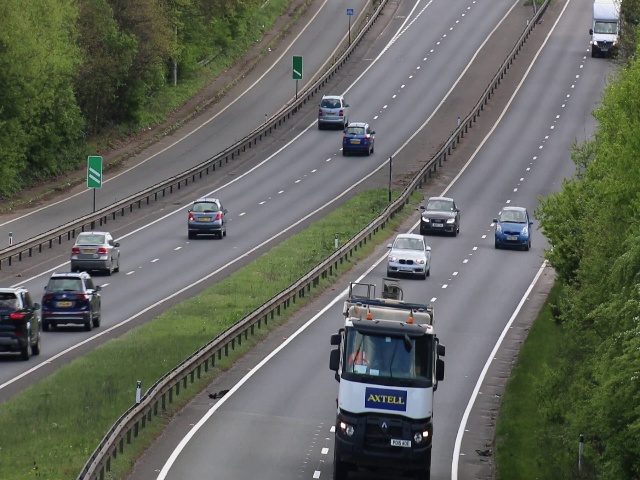car: (330, 326, 438, 480), (40, 272, 101, 333), (1, 285, 42, 362), (70, 230, 122, 274), (387, 232, 433, 278), (492, 202, 532, 251), (417, 194, 460, 238), (188, 195, 226, 241), (592, 16, 619, 61), (341, 122, 375, 157), (317, 94, 350, 128)
